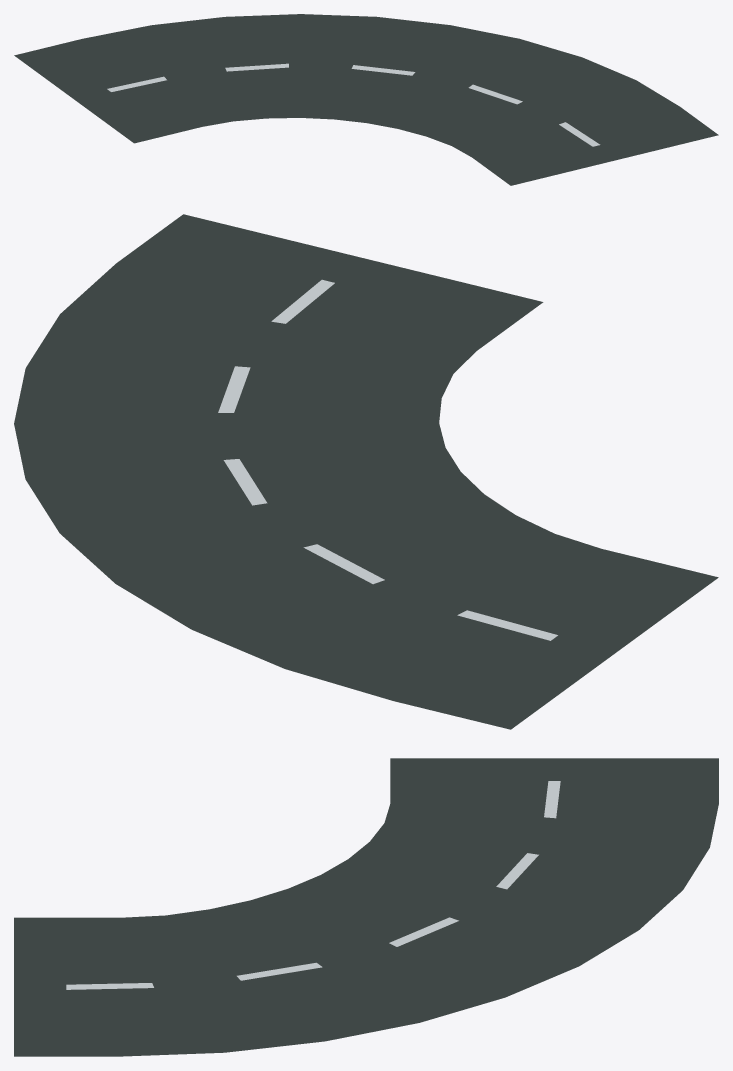
Rendered from Road_2_104.fbx.
The picture shows the model from 3 angles, top to bottom: view 1: azimuth 30°, elevation 25°; view 2: azimuth 150°, elevation 25°; view 3: azimuth 270°, elevation 25°; orthographic projection. The views are drawn at different scales.
Visible parts, largest first — view 1: Road_2_104; view 2: Road_2_104; view 3: Road_2_104.
Part boxes in pixels (left/top/right/bottom): Road_2_104: left=14, top=14, right=718, bottom=185; Road_2_104: left=14, top=214, right=718, bottom=729; Road_2_104: left=14, top=758, right=718, bottom=1056.
Size of the model in its own units: 1933 by 1.66 by 1931.
